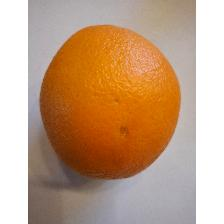Orange: (36, 20, 188, 184)
